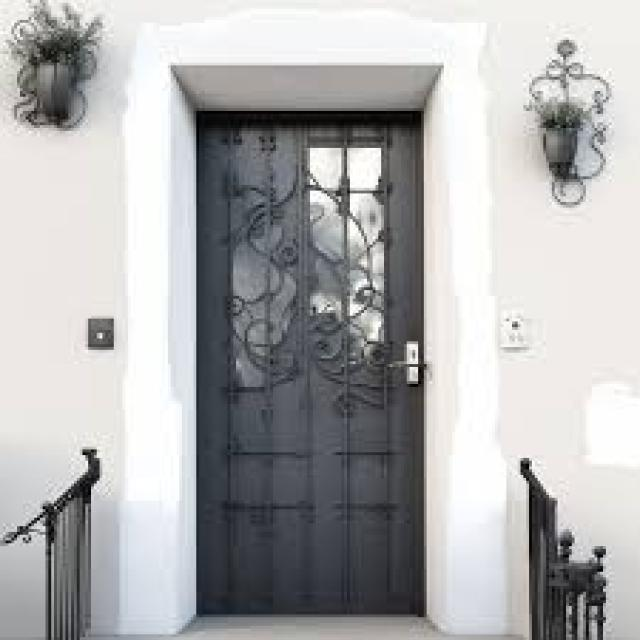door: (196, 108, 427, 617)
